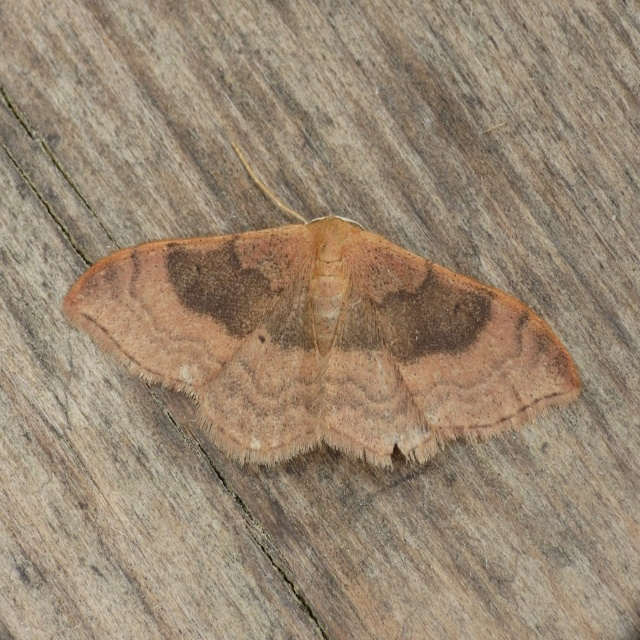Moths and butterflies: (61, 140, 581, 479)
